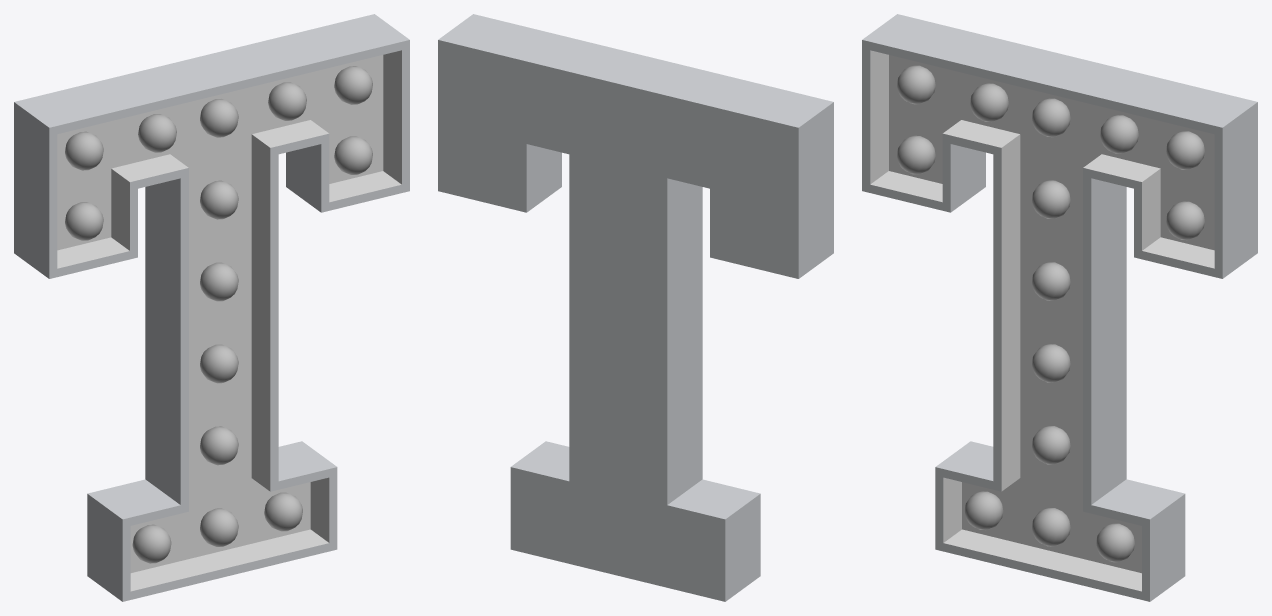
Rendered from LettersBulb01_T.FBX.
The picture shows the model from 3 angles, left to right: view 1: azimuth 30°, elevation 25°; view 2: azimuth 150°, elevation 25°; view 3: azimuth 330°, elevation 25°; orthographic projection.
Visible parts, largest first — view 1: LettersBulb01_T; view 2: LettersBulb01_T; view 3: LettersBulb01_T.
Part boxes in pixels (<box>): LettersBulb01_T: <box>14,14,409,601</box>; LettersBulb01_T: <box>438,14,833,601</box>; LettersBulb01_T: <box>862,14,1257,601</box>.
Size of what is drawn, in the model's own units: 0.9169 by 1.2 by 0.1563.
